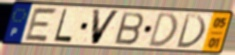B: (113, 11, 146, 46)
D: (146, 11, 179, 49), (174, 13, 206, 51)
E: (22, 7, 60, 44)
L: (52, 7, 74, 44)
V: (90, 8, 122, 46)
